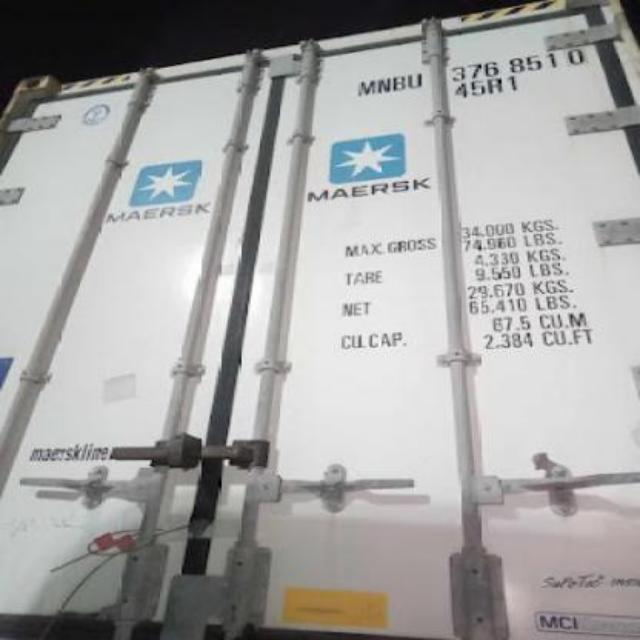0: (568, 44, 584, 70)
1: (546, 46, 558, 74)
3: (448, 60, 466, 86)
5: (524, 48, 542, 74)
6: (484, 56, 500, 78)
7: (464, 59, 482, 80)
8: (511, 49, 524, 75)
B: (390, 68, 406, 94)
M: (356, 75, 376, 98)
N: (376, 75, 389, 95)
U: (404, 72, 422, 92)
